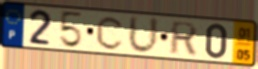0: (204, 23, 229, 61)
2: (27, 8, 55, 48)
5: (57, 11, 85, 50)
C: (95, 14, 126, 51)
R: (167, 20, 200, 56)
U: (126, 14, 160, 57)
